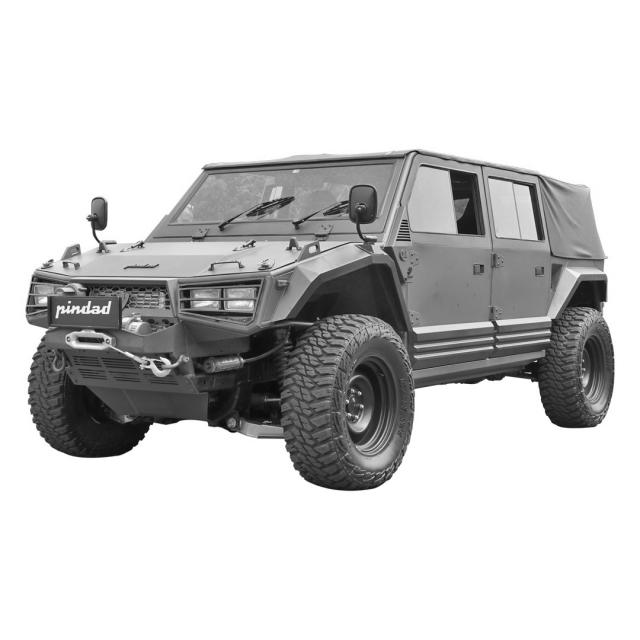Car: (25, 151, 615, 490)
